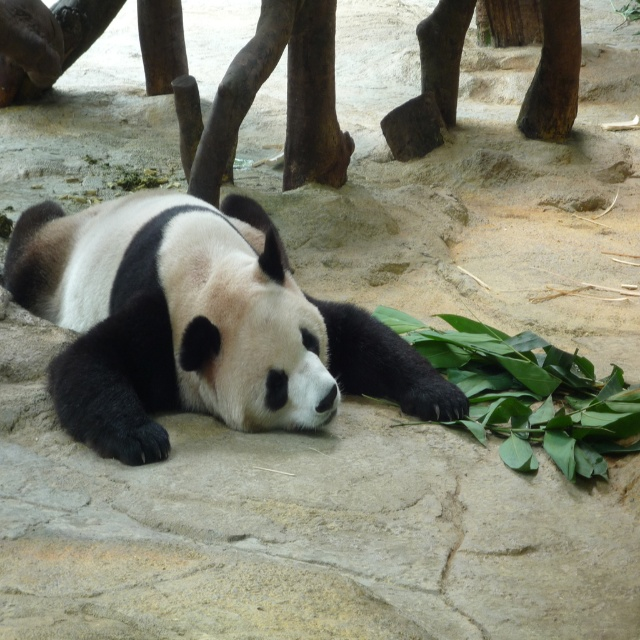Panda: (0, 189, 472, 465)
